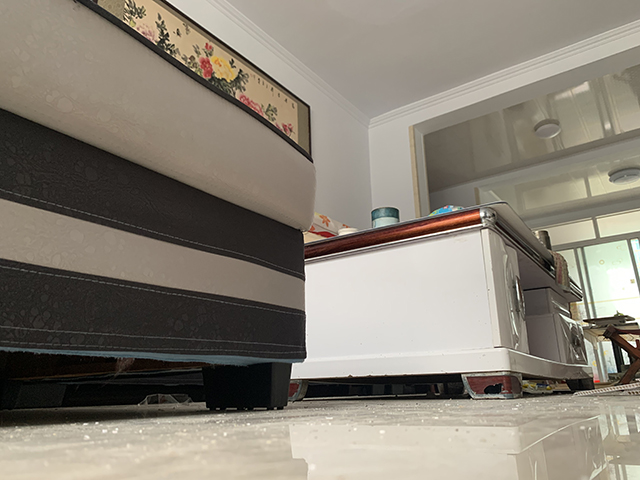sofa: (1, 1, 317, 413)
stool: (602, 323, 640, 387)
table: (289, 200, 596, 401)
